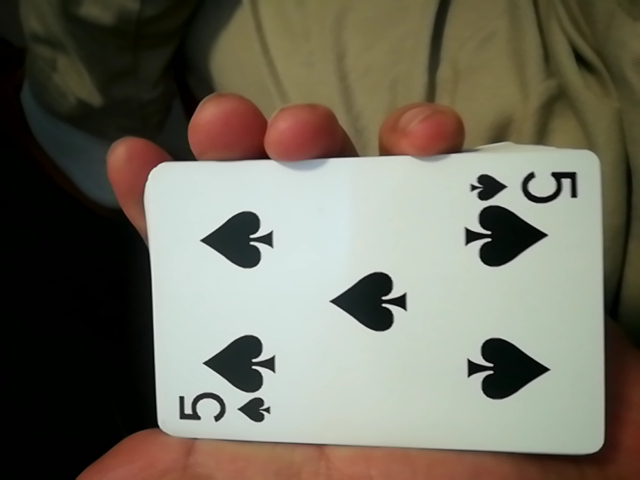ht 5: (123, 143, 592, 459)
